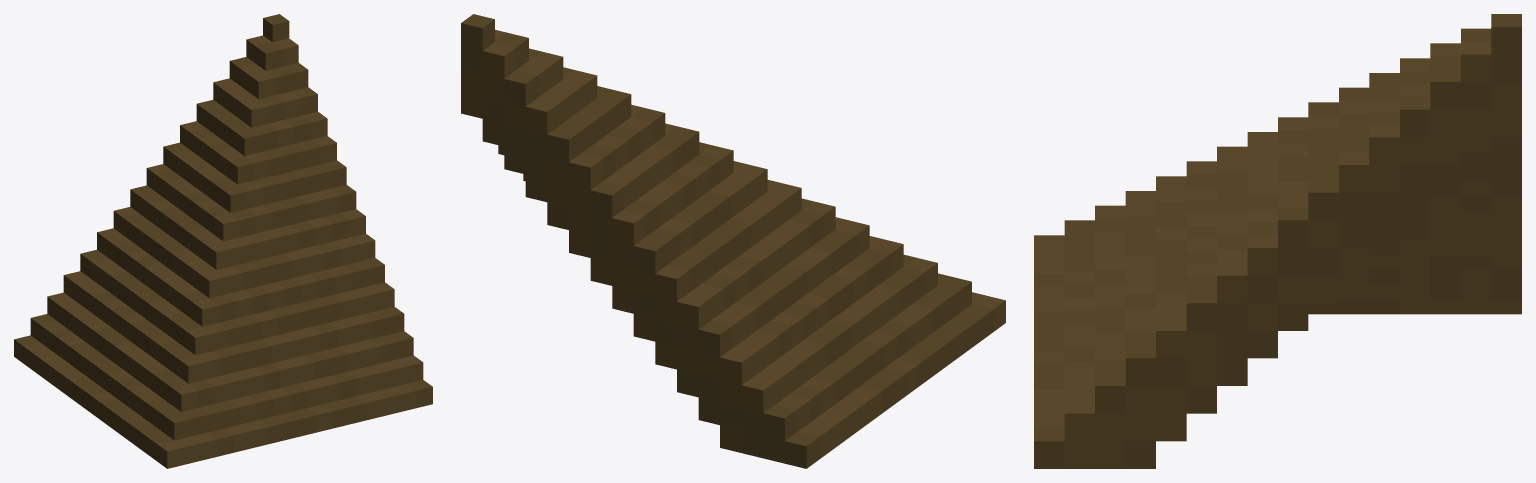
File: tavern-41-roof_corner.obj
3 views of the same model, side by side, from view 1: azimuth 30°, elevation 25°; view 2: azimuth 150°, elevation 25°; view 3: azimuth 270°, elevation 25° (orthographic). The views are drawn at different scales.
Visible parts, largest first — view 1: roof_corner; view 2: roof_corner; view 3: roof_corner.
Boxes of the visible parts, x1=… form: roof_corner: x1=14, y1=14, x2=432, y2=468; roof_corner: x1=461, y1=14, x2=1005, y2=468; roof_corner: x1=1034, y1=14, x2=1521, y2=468.
Bounding box in the file's own units: 1.6 × 1.6 × 1.6.
Materials: 1 (1 with a texture image).
